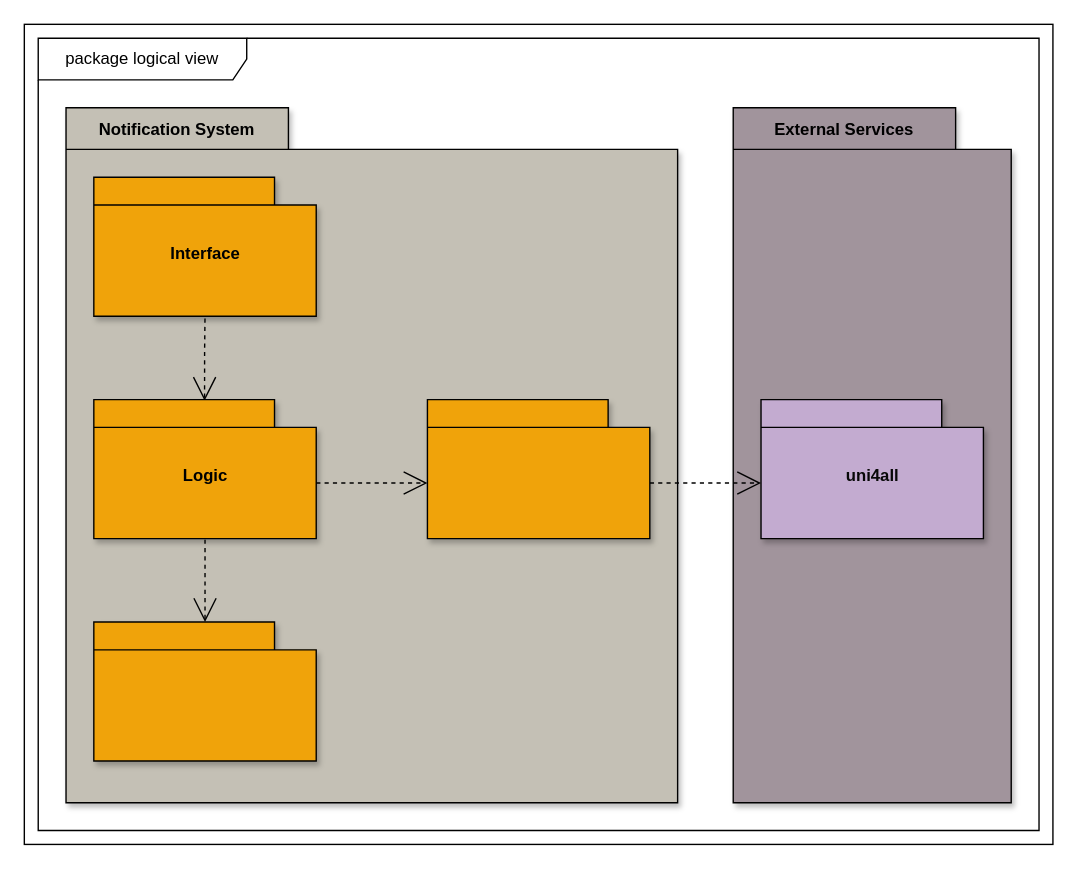
This 1077x869 diagram has some shape labels left out. The centre of each missing label's shape, as x and y in pixels:
"Authentication" belongs at point (539, 470).
"Database" belongs at point (206, 693).
